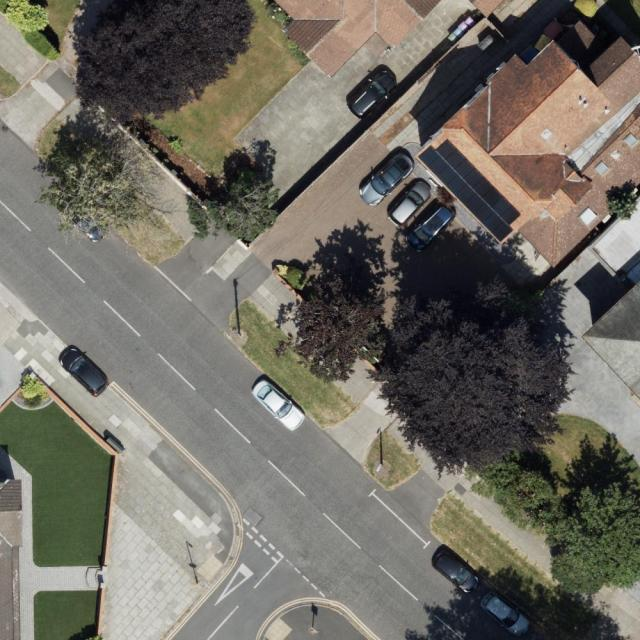roof: (413, 14, 640, 268), (270, 0, 444, 78), (582, 193, 640, 402), (0, 481, 26, 640)
skylight: (577, 206, 598, 226), (536, 124, 554, 143), (593, 159, 610, 177), (622, 133, 639, 150)
solar: (417, 138, 521, 241)
